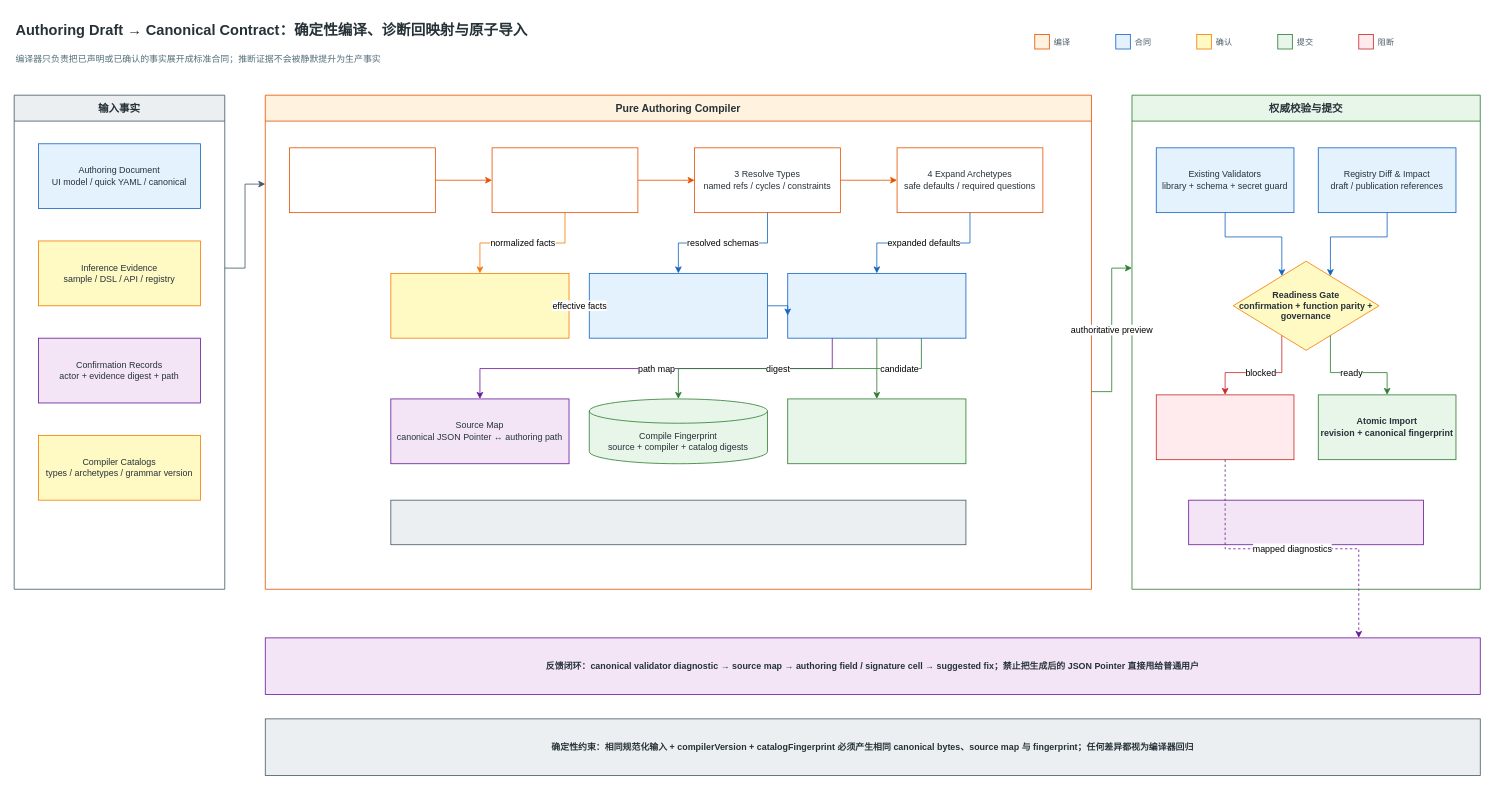
The diagram is 1503 pixels wide and 790 high, and some of its shapes have lost their labels. Here are the shapes that lost their labels. From the top down, the centre of each, then its label:
At point 362,180: "1 Safe Parse size / depth / token limits".
At point 564,180: "2 Normalize AST stable order / defaults / aliases".
At point 479,305: "5 Merge Confirmed Facts declared > confirmed > observed".
At point 677,305: "6 Parse Function Signatures overload / optional / variadic".
At point 876,305: "7 Assemble Canonical Library SchemaEnvelope / ports / capabilities".
At point 876,431: "Compile Result canonical candidate + unresolved facts".
At point 1224,427: "Reject / Needs Review stable code + Fix-it + source path".
At point 678,522: "本地 TypeScript 编译器只产生 LOCAL_PREVIEW；服务端 Java 编译器重新编译后才可进入 import / publish".
At point 1306,522: "Stale Preview Protection If-Match authoringRevision + previewFingerprint".
